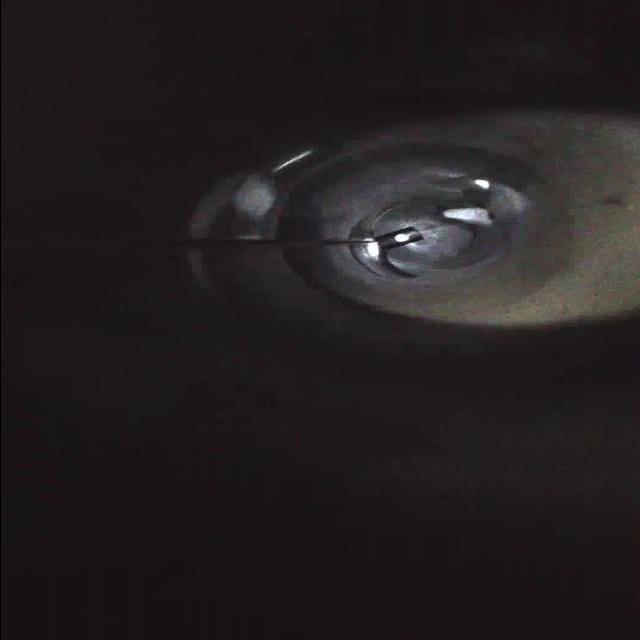impurity: (438, 204, 503, 230)
